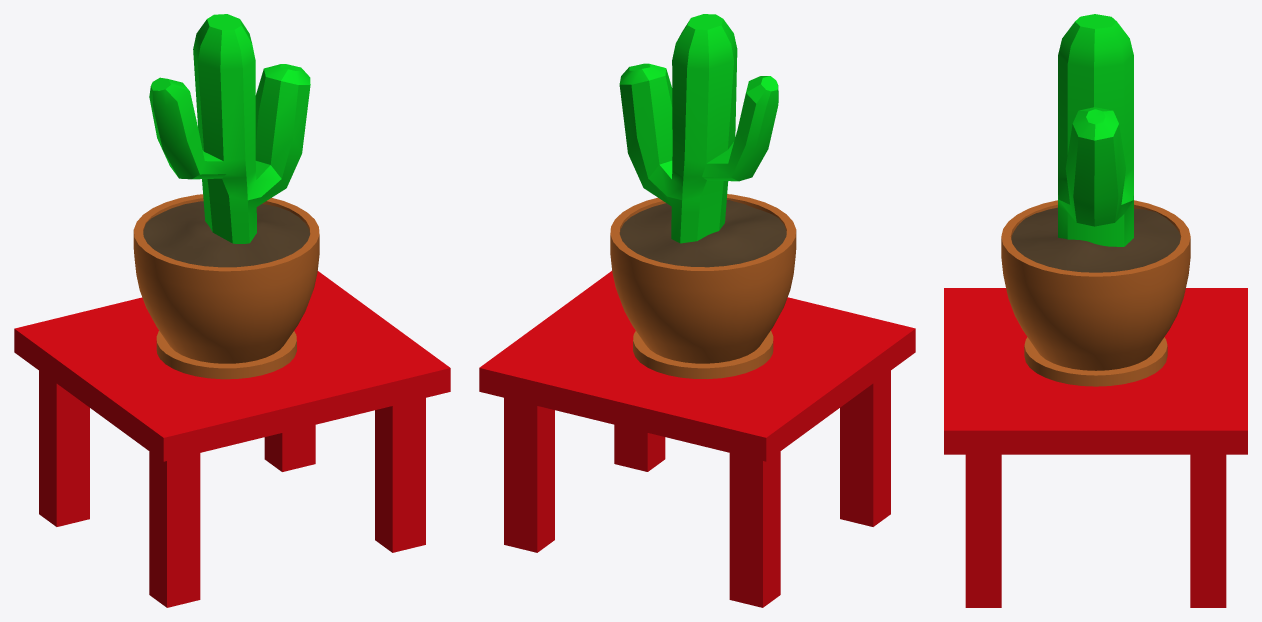
File: catus and table.fbx
The picture shows the model from 3 angles, left to right: view 1: azimuth 30°, elevation 25°; view 2: azimuth 150°, elevation 25°; view 3: azimuth 270°, elevation 25°; orthographic projection.
Parts seen in each view (by area): view 1: Cube.032, Cube.025, Circle, Circle.001; view 2: Cube.032, Cube.025, Circle, Circle.001; view 3: Cube.032, Circle, Cube.025, Circle.001.
Part boxes in pixels (bbox=[...]): Cube.032: bbox=[14, 271, 450, 607]; Cube.025: bbox=[149, 14, 310, 243]; Circle: bbox=[133, 194, 319, 379]; Circle.001: bbox=[143, 201, 309, 267]; Cube.032: bbox=[479, 271, 915, 607]; Cube.025: bbox=[619, 14, 778, 243]; Circle: bbox=[610, 194, 796, 379]; Circle.001: bbox=[620, 200, 786, 267]; Cube.032: bbox=[944, 288, 1247, 607]; Circle: bbox=[1001, 200, 1190, 386]; Cube.025: bbox=[1058, 14, 1133, 246]; Circle.001: bbox=[1011, 207, 1180, 272].
Bounding box in the file's own units: 34.97 × 59.32 × 31.54.
